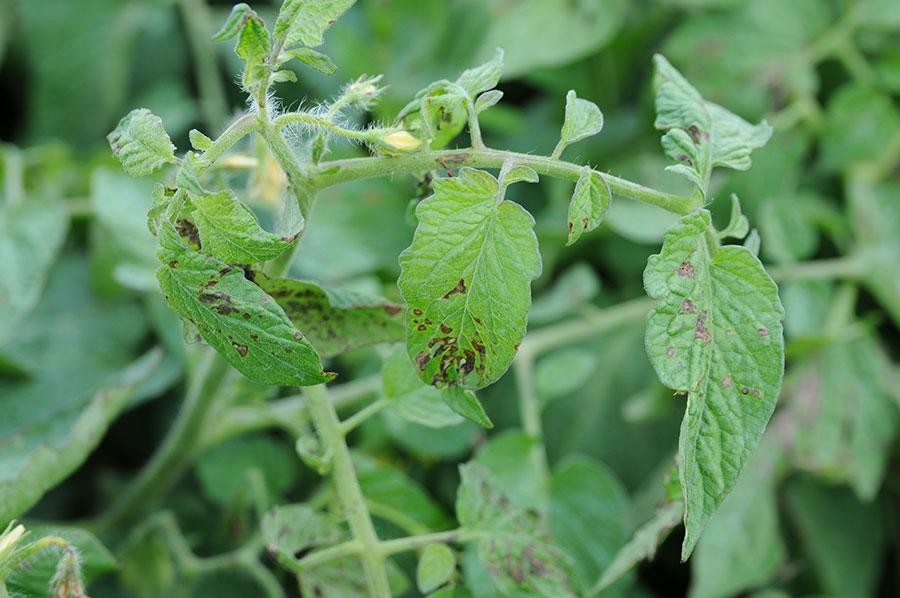Bacterial Spot: (636, 224, 790, 580), (140, 181, 338, 400), (391, 169, 546, 430)
